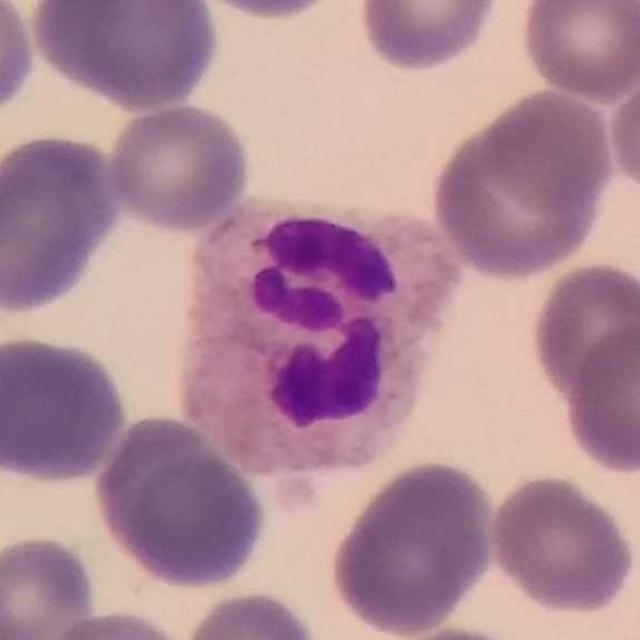Neutrophil: (165, 186, 462, 495)
RBC: (426, 89, 614, 282), (325, 455, 501, 639), (91, 418, 273, 594), (0, 128, 124, 321), (484, 470, 639, 618), (25, 0, 224, 114), (0, 329, 131, 487), (101, 100, 254, 234), (480, 86, 619, 212), (526, 257, 640, 409), (516, 0, 640, 105), (561, 316, 640, 480), (354, 0, 502, 75), (0, 530, 100, 640), (179, 585, 325, 640), (604, 51, 640, 205), (39, 605, 195, 640), (0, 0, 39, 122), (183, 0, 347, 22), (365, 622, 547, 640)
